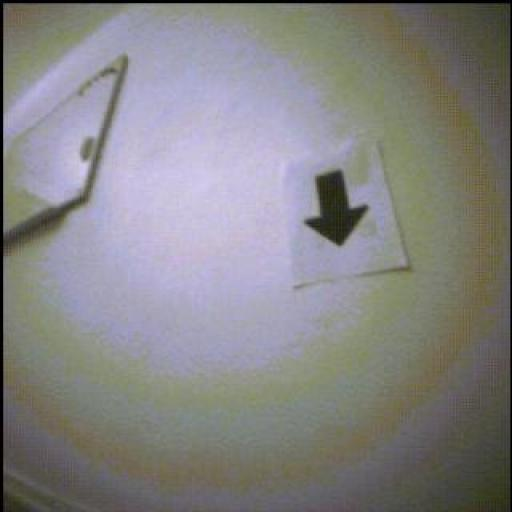Arrow: (305, 173, 369, 248)
